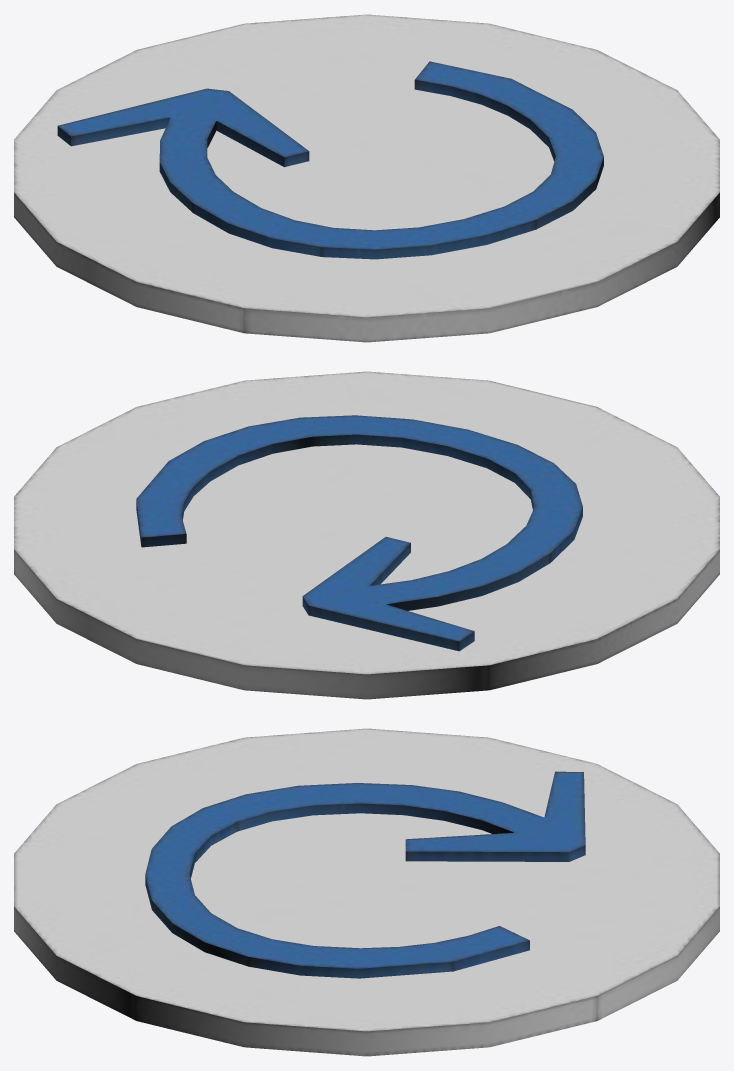
The model's file is reset.obj.
3 views of the same model, one above another, from view 1: azimuth 30°, elevation 25°; view 2: azimuth 150°, elevation 25°; view 3: azimuth 270°, elevation 25° (orthographic).
Visible parts, largest first — view 1: Cylinder001; view 2: Cylinder001; view 3: Cylinder001.
Boxes of the visible parts, x1,y1,x2,y2 form: Cylinder001: (14, 14, 719, 342); Cylinder001: (14, 371, 719, 699); Cylinder001: (14, 728, 719, 1056).
Bounding box in the file's own units: 17.92 × 1.25 × 17.65.
Materials: 1 (1 with a texture image).
